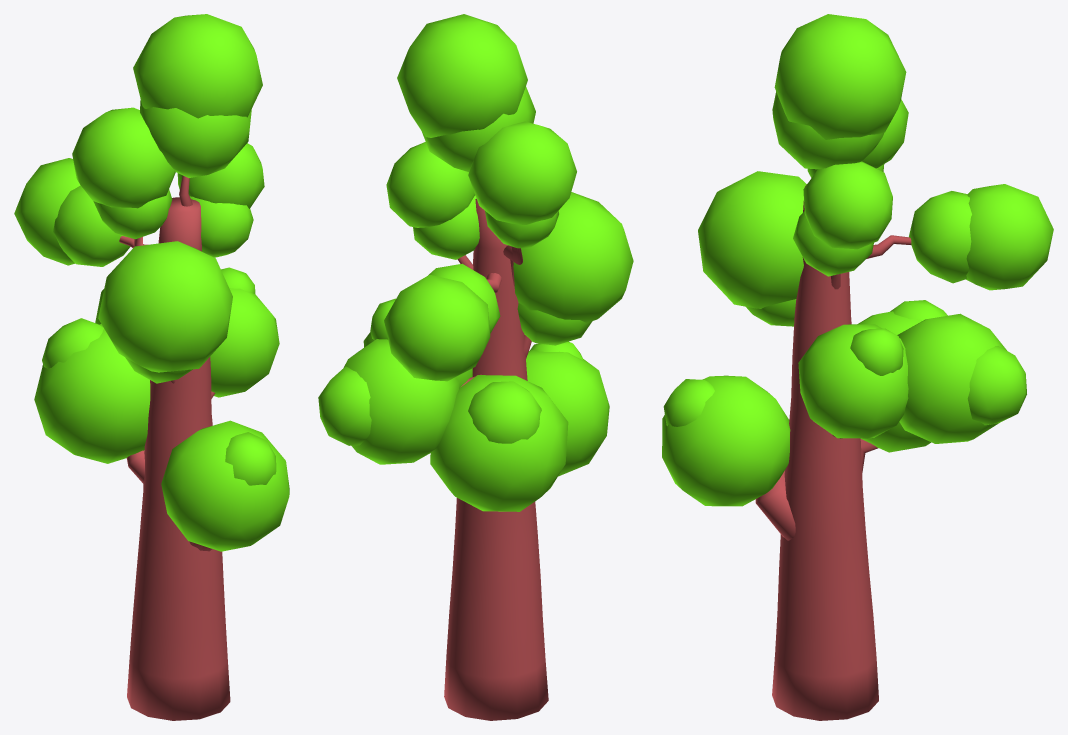
Rendered from BrandonTree.fbx.
3 renders of one model, left to right at view 1: azimuth 30°, elevation 25°; view 2: azimuth 150°, elevation 25°; view 3: azimuth 270°, elevation 25°, orthographic. The views are drawn at different scales.
Visible parts, largest first — view 1: merge1; view 2: merge1; view 3: merge1.
Part boxes in pixels (x1=…): merge1: x1=14, y1=14, x2=289, y2=720; merge1: x1=318, y1=14, x2=633, y2=720; merge1: x1=662, y1=14, x2=1053, y2=720.
Size of the model in its own units: 4.41 by 13.54 by 6.96.
